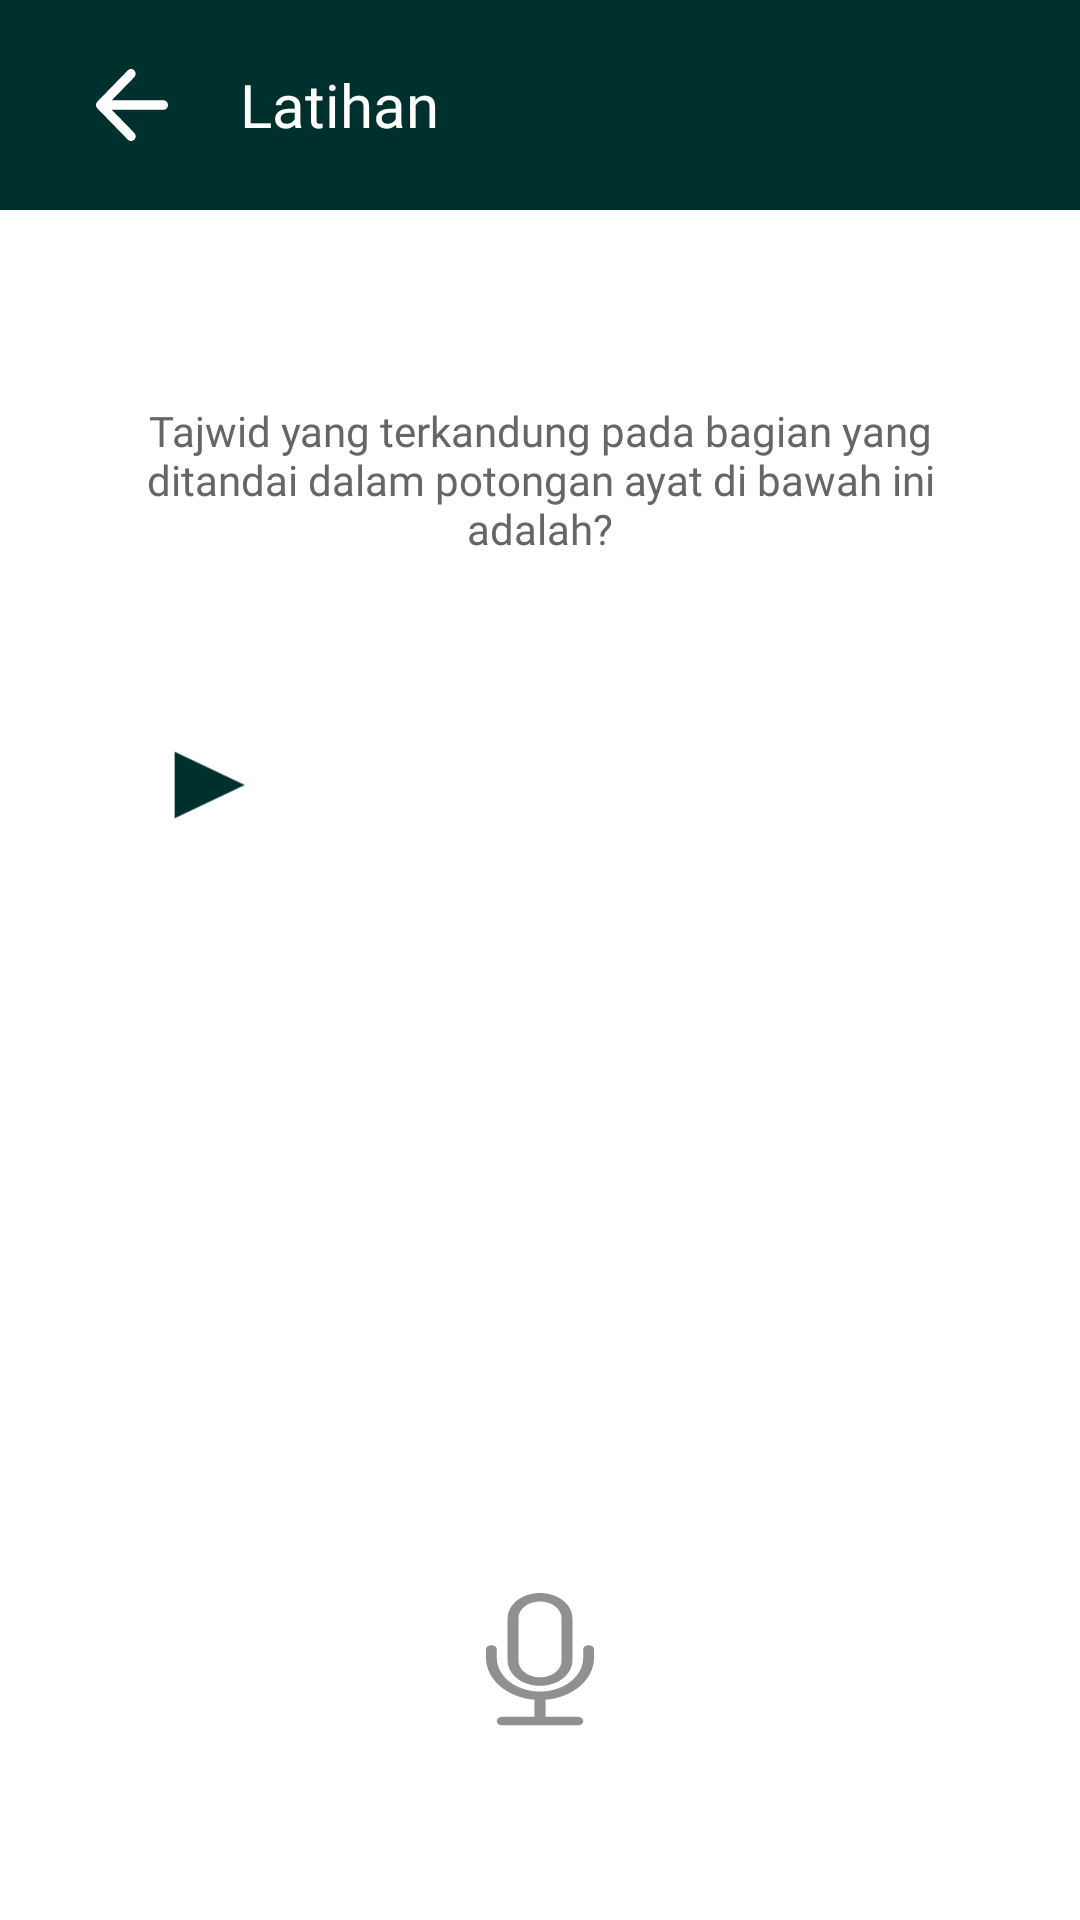

Icon bounding boxes for this 1080w x 1920h phone screenshot, format (x1,y1,x2,y2):
back: (96,69,168,141)
mic: (486,1593,594,1726)
play: (174,751,245,819)
